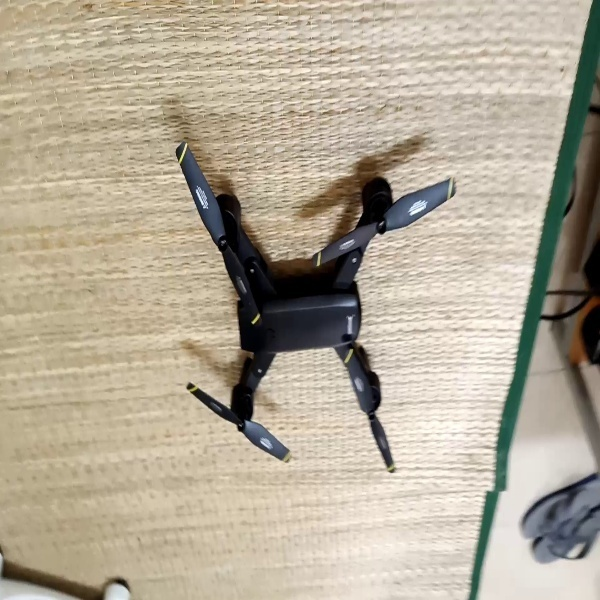drone: (165, 134, 459, 478)
